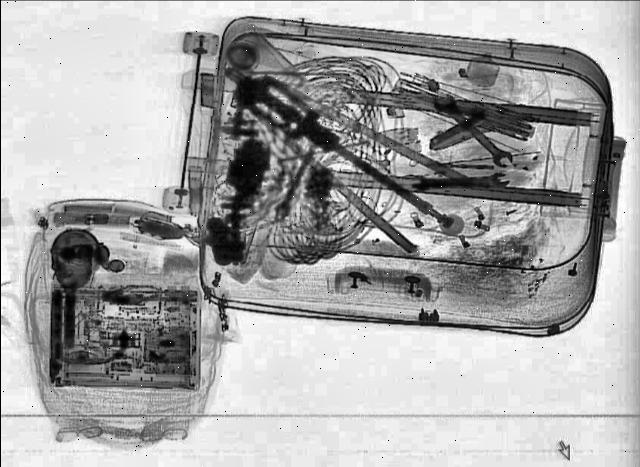Pliers: (198, 49, 502, 257)
Wrench: (428, 92, 522, 170), (408, 172, 512, 194)
